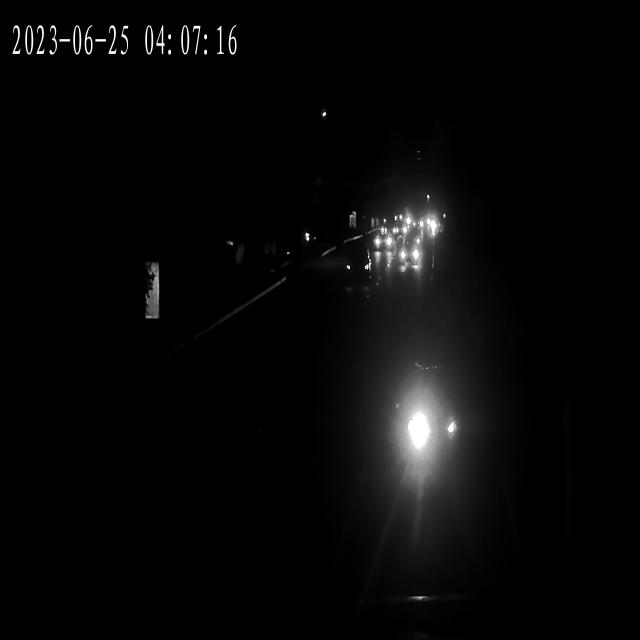Car: (395, 355, 469, 489), (396, 243, 423, 268), (370, 233, 394, 254), (412, 217, 440, 235), (370, 228, 392, 250)
